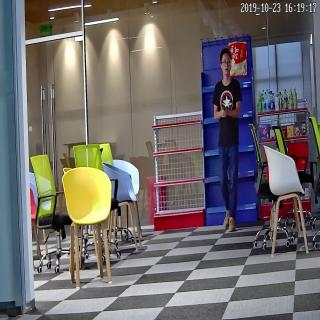gun: (218, 102, 229, 122)
